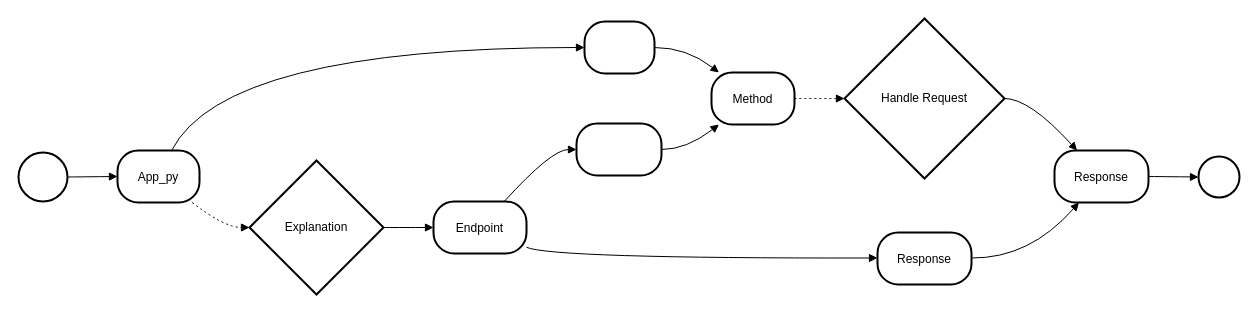
Some shapes in this 1257 by 312 pixel diagram are drawn without their labels. The shapes that lost their labels are listed below. From the top down, each one's centre as x and y in pixels, then its label:
At point 619,47: "Route".
At point 618,149: "Request".
At point 42,176: "Start".
At point 1218,176: "End".
